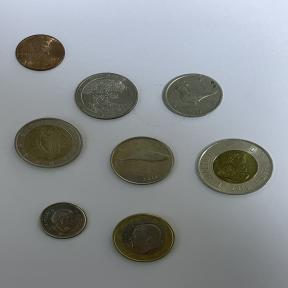coin: (190, 134, 278, 202), (105, 208, 186, 268), (103, 131, 182, 191), (9, 116, 86, 176), (68, 68, 142, 122), (8, 27, 74, 77), (34, 198, 93, 244)
